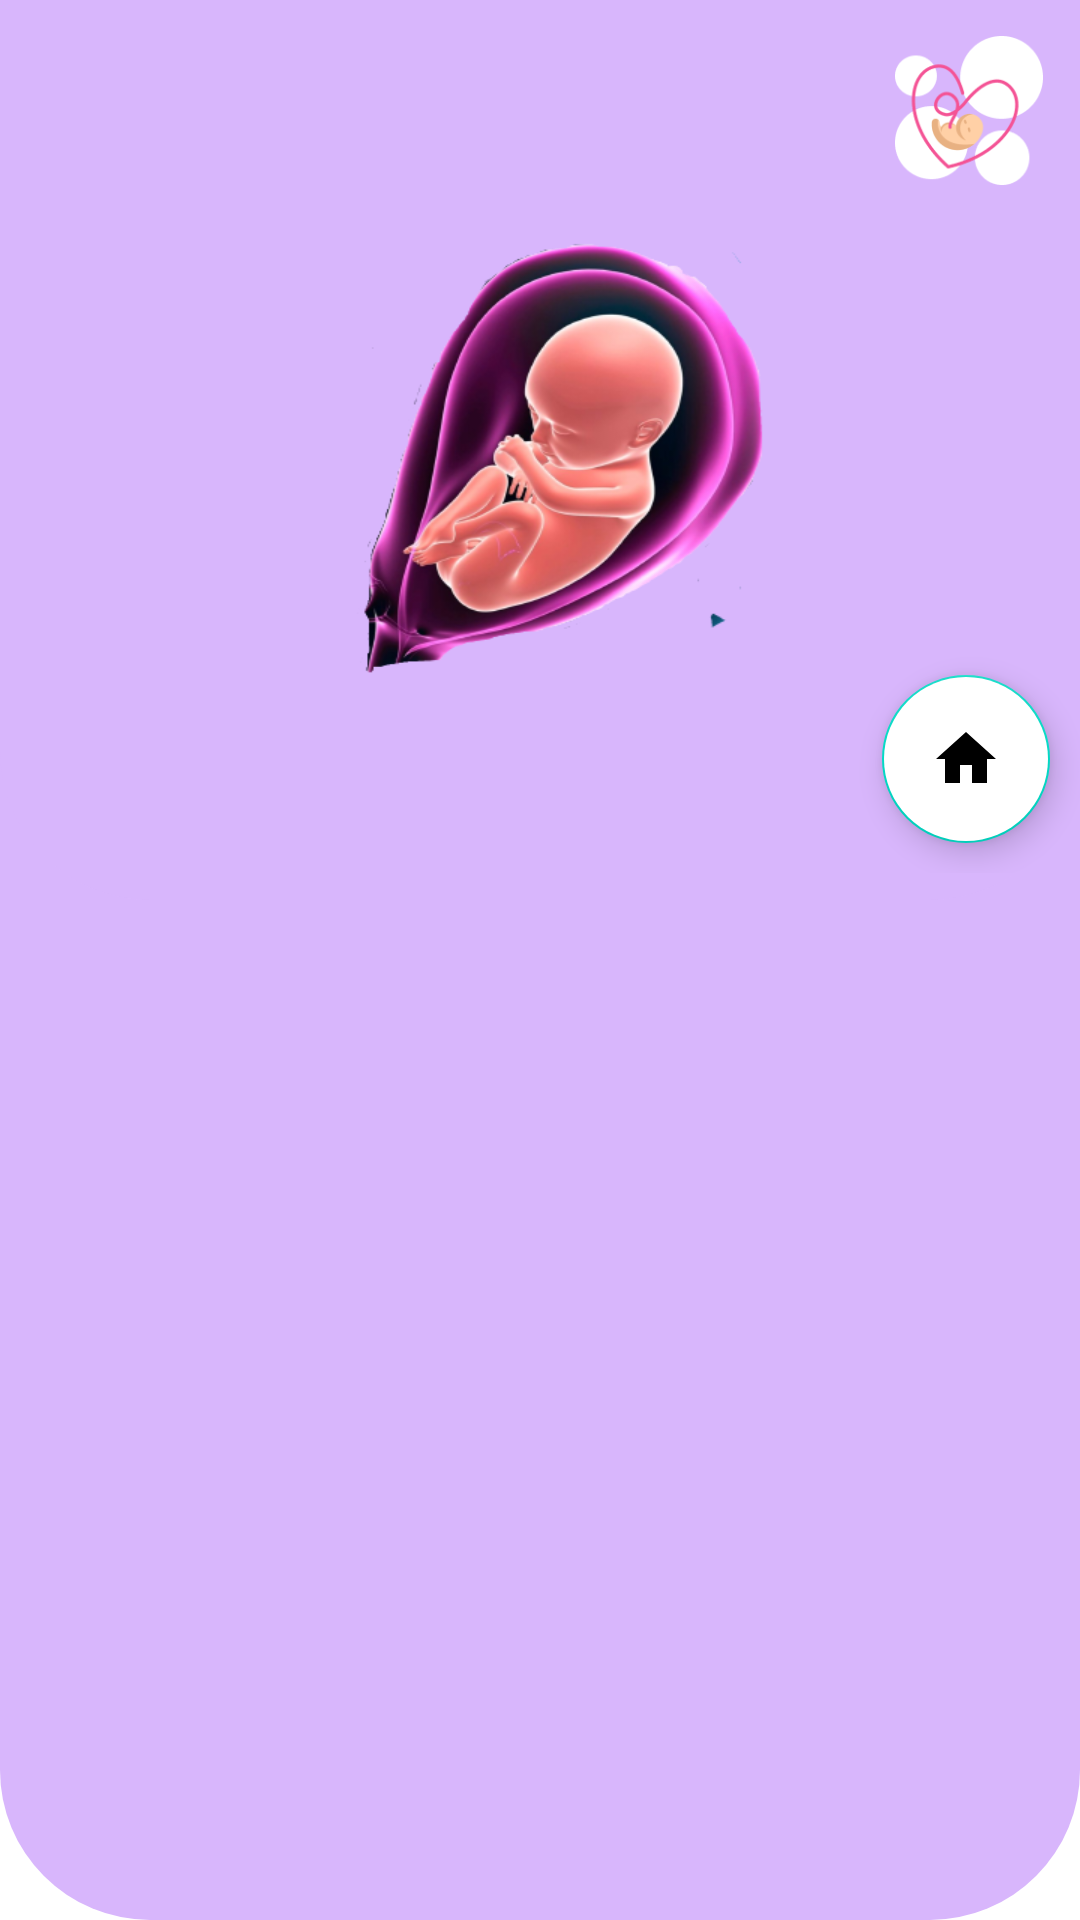

Screen size 1080x1920. Icon name, then its center in pixels as (x=x, y=y):
home: (x=966, y=759)
